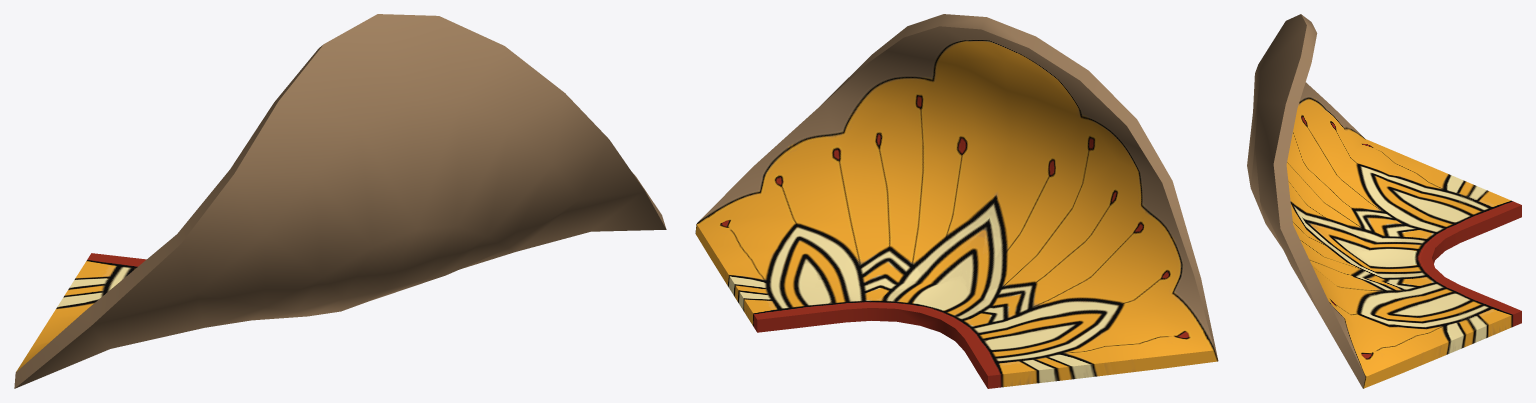
File: egypt_concavecorner.gltf
3 views of the same model, side by side, from view 1: azimuth 30°, elevation 25°; view 2: azimuth 150°, elevation 25°; view 3: azimuth 270°, elevation 25° (orthographic). The views are drawn at different scales.
Visible parts, largest first — view 1: egypt_concavecorner_glb; view 2: egypt_concavecorner_glb; view 3: egypt_concavecorner_glb.
Part boxes in pixels (x1,y1,x2,y2): egypt_concavecorner_glb: (14, 14, 666, 388); egypt_concavecorner_glb: (695, 14, 1218, 388); egypt_concavecorner_glb: (1247, 14, 1521, 388).
Size of what is drawn, in the model's own units: 10.28 by 4.89 by 4.97.
1 material, 1 textured.
